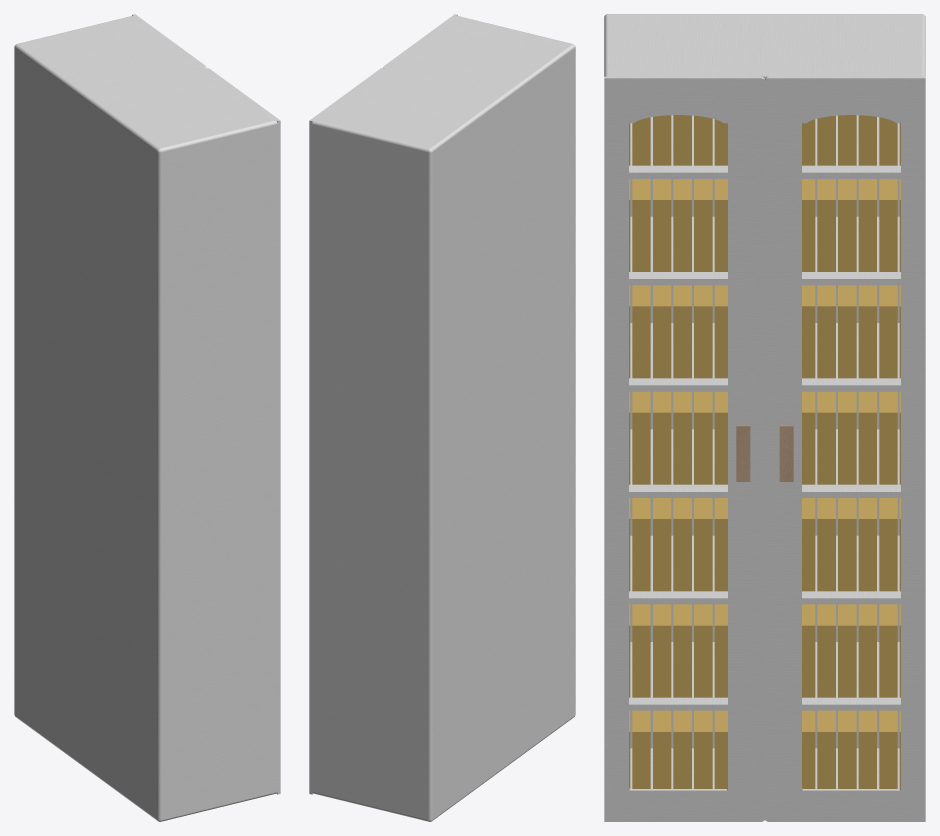
Rendered from d单独柜子.fbx.
3 renders of one model, left to right at view 1: azimuth 30°, elevation 25°; view 2: azimuth 150°, elevation 25°; view 3: azimuth 270°, elevation 25°, orthographic. The views are drawn at different scales.
Parts seen in each view (by area): view 1: 物件_7, 物件_2; view 2: 物件_7, 物件_5; view 3: 物件_2, 物件_5, 物件_7, 物件_39, 物件_87, 物件_55, 物件_71, 物件_103, 物件_23, 物件_41, 物件_43, 物件_44 (+70 smaller).
Boxes of the visible parts, x1,y1,x2,y2 form: 物件_7: (14, 16, 277, 821); 物件_2: (206, 68, 280, 794); 物件_7: (312, 16, 575, 821); 物件_5: (309, 68, 383, 794); 物件_2: (604, 76, 764, 821); 物件_5: (765, 76, 925, 821); 物件_7: (604, 14, 925, 819); 物件_39: (629, 216, 900, 285); 物件_87: (629, 535, 900, 604); 物件_55: (629, 323, 900, 391); 物件_71: (629, 429, 900, 497); 物件_103: (629, 642, 900, 710); 物件_23: (629, 115, 900, 178); 物件_41: (879, 285, 897, 378); 物件_43: (838, 285, 856, 378); 物件_44: (817, 285, 835, 378).
Size of the model in its own units: 42.78 by 222 by 87.
3 materials, 2 textured.
